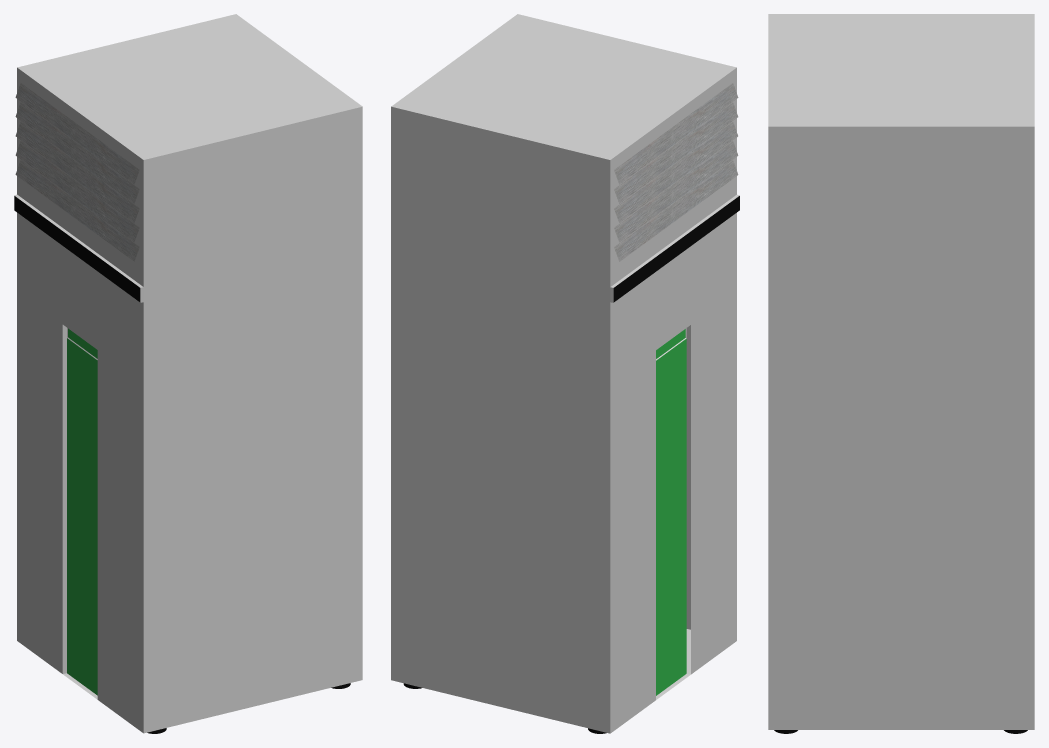
Rendered from 11_bio_kondei.FBX.
The picture shows the model from 3 angles, left to right: view 1: azimuth 30°, elevation 25°; view 2: azimuth 150°, elevation 25°; view 3: azimuth 270°, elevation 25°; orthographic projection. The views are drawn at different scales.
Visible parts, largest first — view 1: Box002, Plane005, Plane002, Plane003, Plane004, Plane001; view 2: Box002, Plane004, Plane005, Plane001, Plane002, Plane003; view 3: Box002.
Part boxes in pixels (x1,y1,x2,y2): Box002: (14,14,362,733); Plane005: (15,160,139,261); Plane002: (15,102,139,203); Plane003: (15,121,139,222); Plane004: (15,141,139,242); Plane001: (15,83,139,184); Box002: (391,14,739,733); Plane004: (614,141,738,242); Plane005: (614,160,738,261); Plane001: (614,83,738,184); Plane002: (614,102,738,203); Plane003: (614,122,737,222); Box002: (768,14,1034,729).
Bounding box in the file's own units: 1024 × 2528 × 1000.
4 materials, 1 textured.
